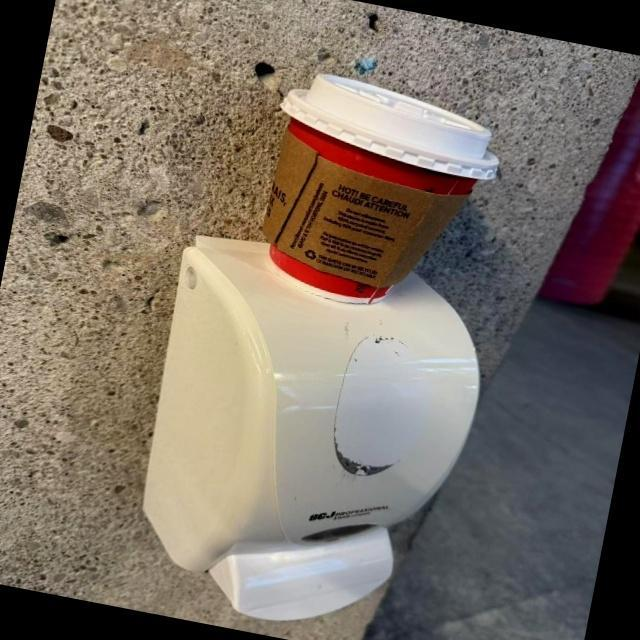timmies: (261, 58, 508, 336)
